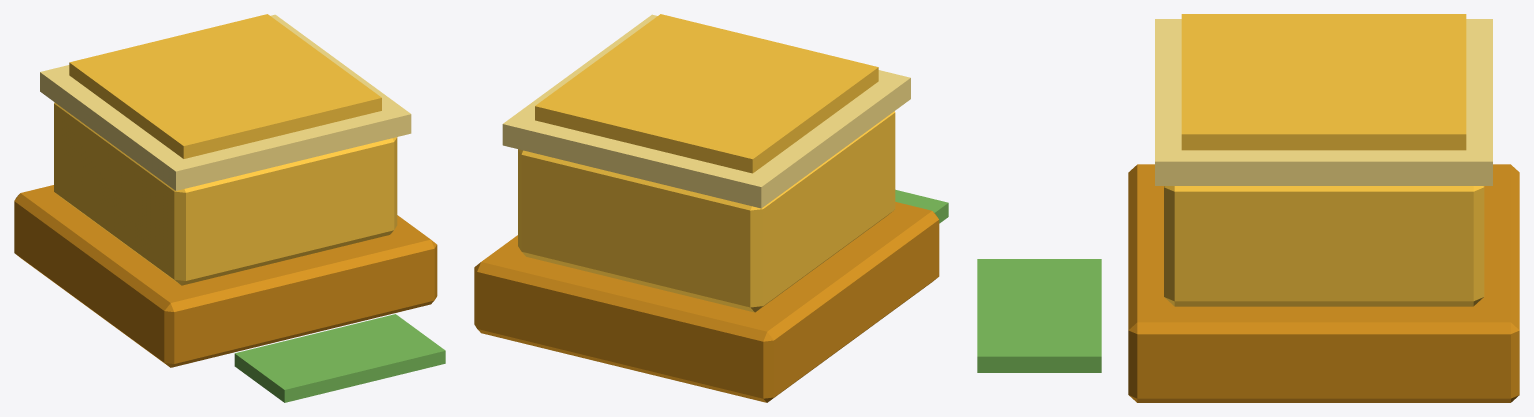
File: GoldPedestal.fbx
3 renders of one model, left to right at view 1: azimuth 30°, elevation 25°; view 2: azimuth 150°, elevation 25°; view 3: azimuth 270°, elevation 25°, orthographic. The views are drawn at different scales.
Parts seen in each view (by area): view 1: GoldPedestal; view 2: GoldPedestal; view 3: GoldPedestal.
Part boxes in pixels (box(x1,y1,x2,y2)): GoldPedestal: box(14, 14, 445, 402); GoldPedestal: box(474, 14, 948, 402); GoldPedestal: box(977, 14, 1519, 402).
Bounding box in the file's own units: 4.4 × 3.1 × 6.1.
Materials: 1 (1 with a texture image).
